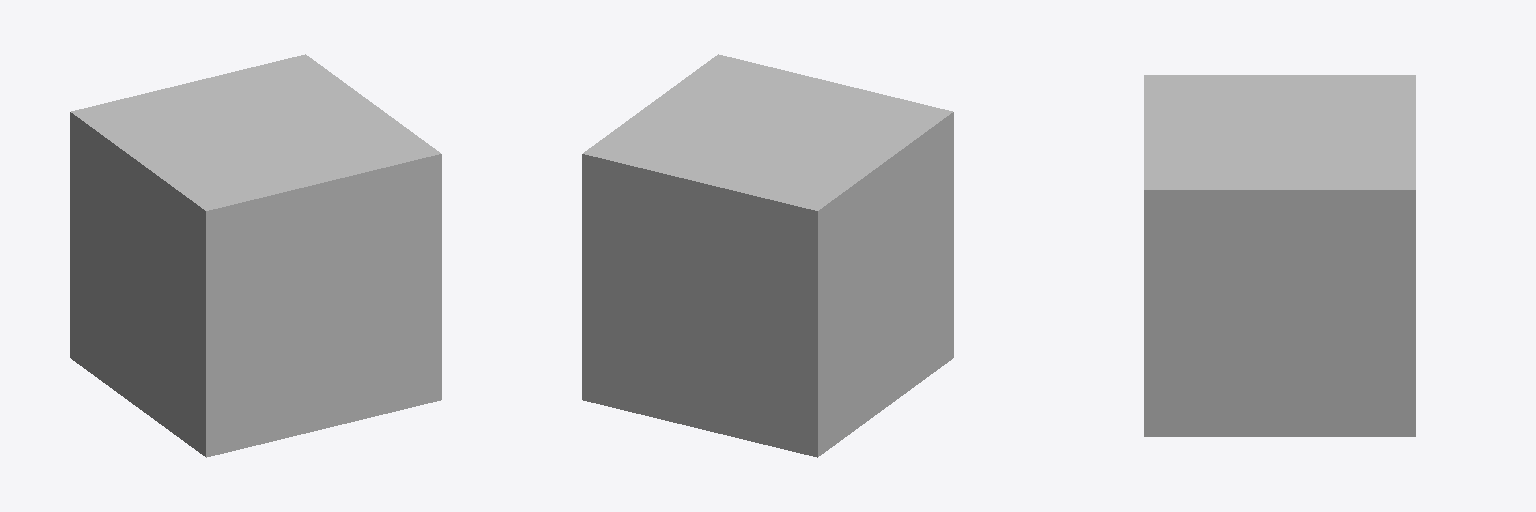
The model's file is Key_cube_bottle_preprocessed_convex.obj.
The picture shows the model from 3 angles: view 1: azimuth 30°, elevation 25°; view 2: azimuth 150°, elevation 25°; view 3: azimuth 270°, elevation 25°; orthographic projection.
Parts seen in each view (by area): view 1: convex_0; view 2: convex_0; view 3: convex_0.
Part boxes in pixels (x1,y1,x2,y2): convex_0: (70,54,441,457); convex_0: (582,54,953,457); convex_0: (1144,75,1415,436).
Size of the model in its own units: 0.0808 by 0.0808 by 0.0808.